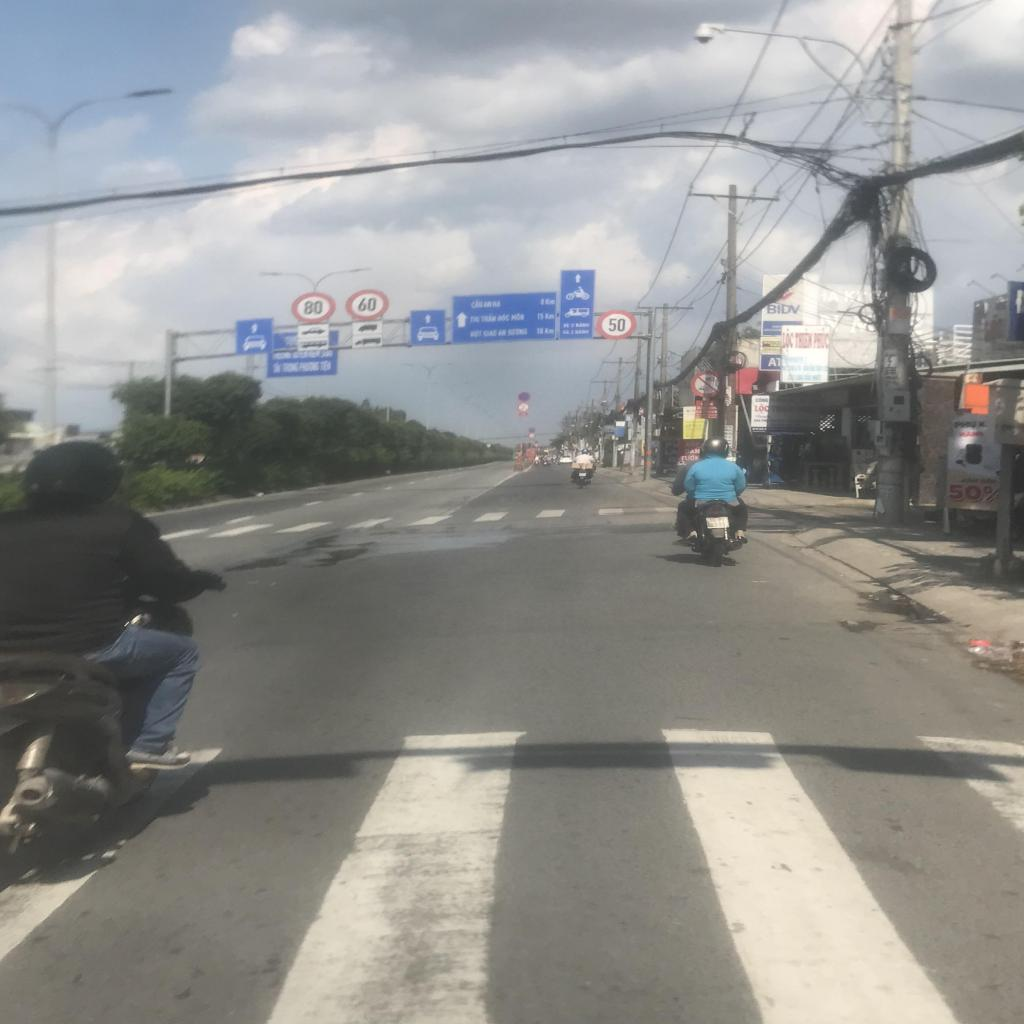cam_cac_loai_xe_3_banh: (690, 371, 718, 398)
duong_cho_xe_o_to: (236, 318, 273, 356), (409, 310, 446, 346)
khac: (450, 293, 557, 344), (559, 270, 595, 339), (352, 334, 382, 349), (297, 324, 329, 338), (297, 338, 330, 350), (352, 322, 382, 335)
object: (517, 392, 531, 401), (516, 403, 530, 412), (528, 427, 536, 433), (530, 434, 536, 438)
toc_do_toi_da_50: (595, 310, 638, 341)
toc_do_toi_da_60: (345, 290, 389, 320)
toc_do_toi_da_80: (290, 292, 337, 322)
